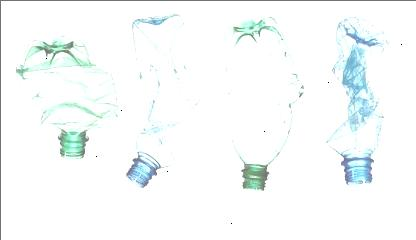Plastic Bottle: (219, 11, 304, 193), (120, 11, 202, 190), (13, 34, 119, 158), (324, 13, 390, 188)
